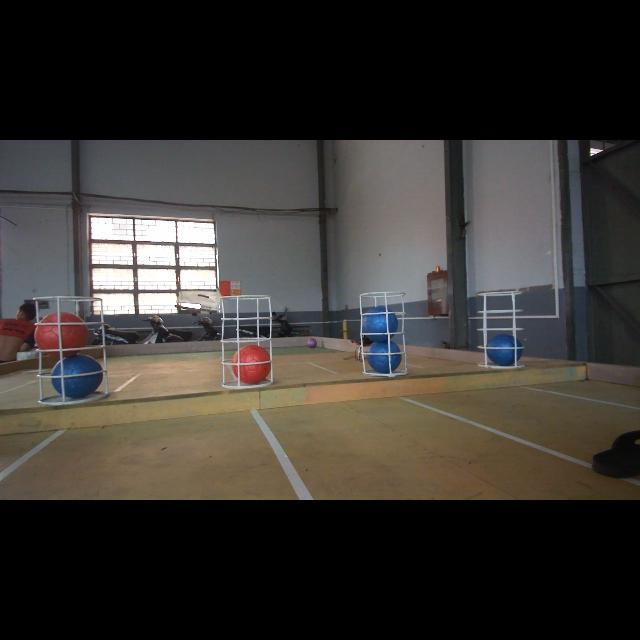B: (52, 356, 104, 396), (361, 306, 399, 342), (366, 340, 402, 376), (486, 336, 522, 366)
R: (35, 310, 89, 356), (232, 344, 272, 386)
